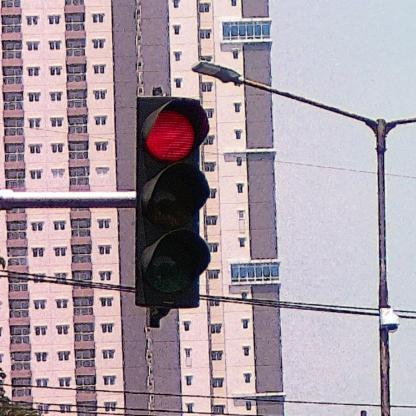red: (135, 94, 205, 310)
